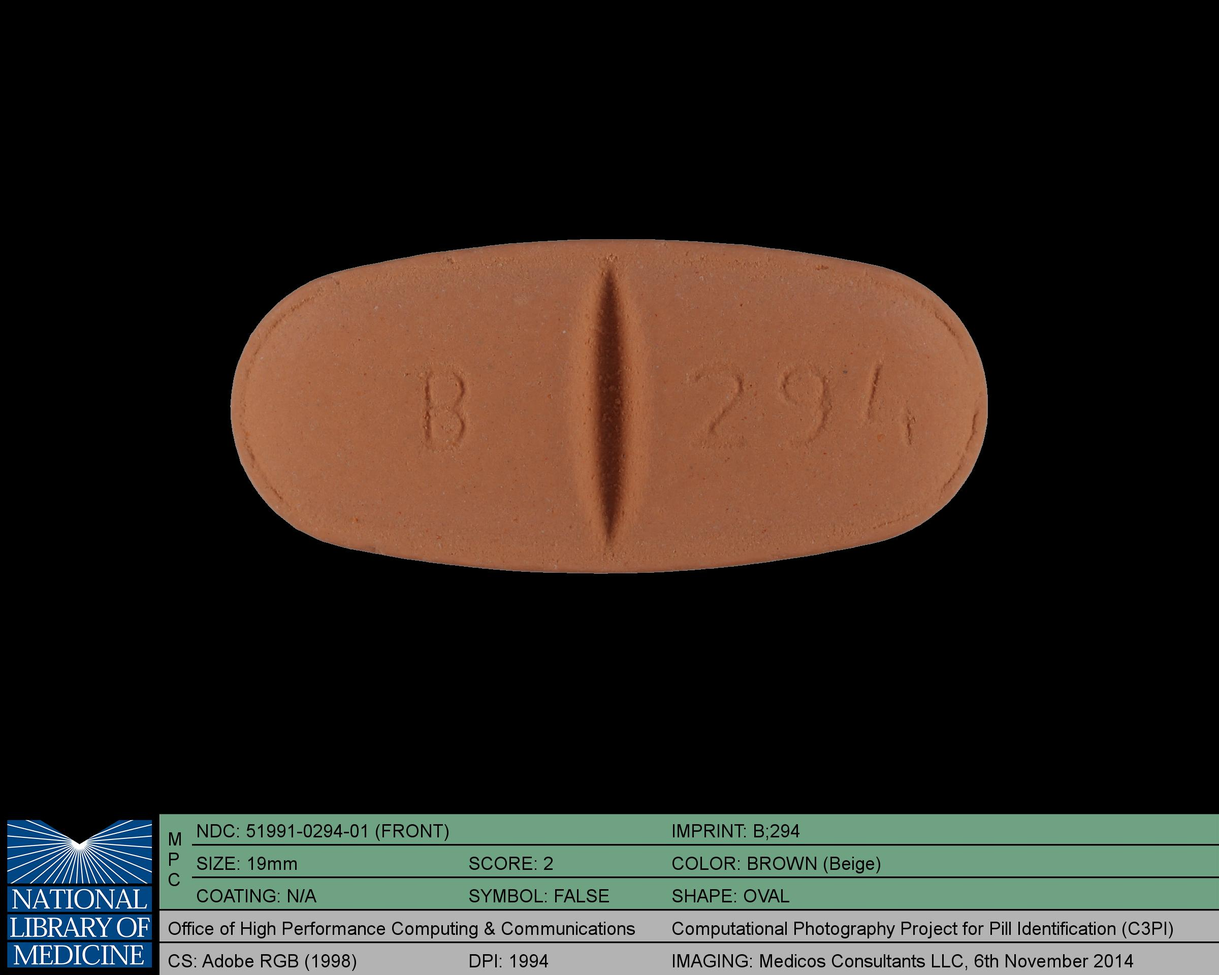Pill: (218, 223, 1002, 586)
